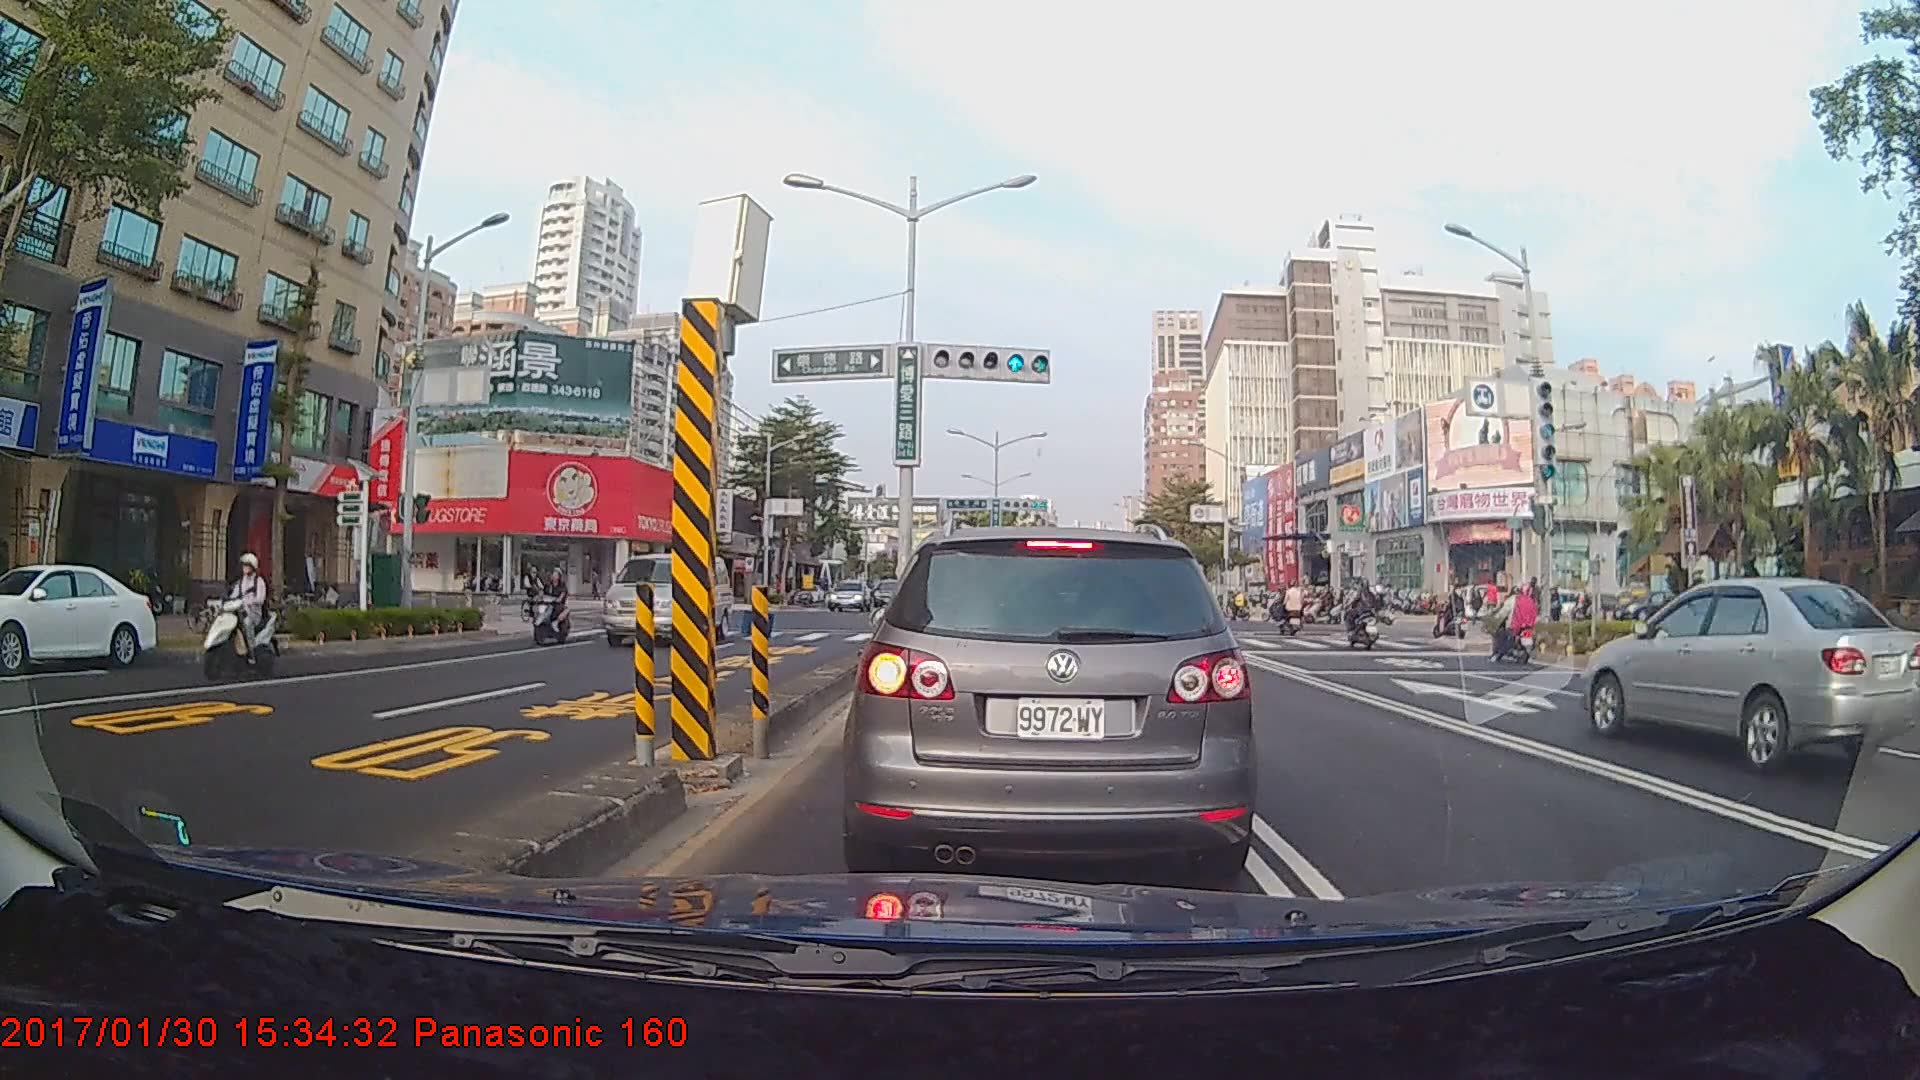rider: (180, 553, 273, 689), (1485, 582, 1548, 668), (534, 566, 584, 644), (1338, 580, 1390, 652), (518, 559, 561, 629), (1436, 582, 1473, 646), (1276, 582, 1314, 636)
vehicle: (853, 523, 1249, 885), (1580, 575, 1920, 771), (0, 561, 157, 671), (606, 551, 742, 650), (823, 579, 875, 612)
